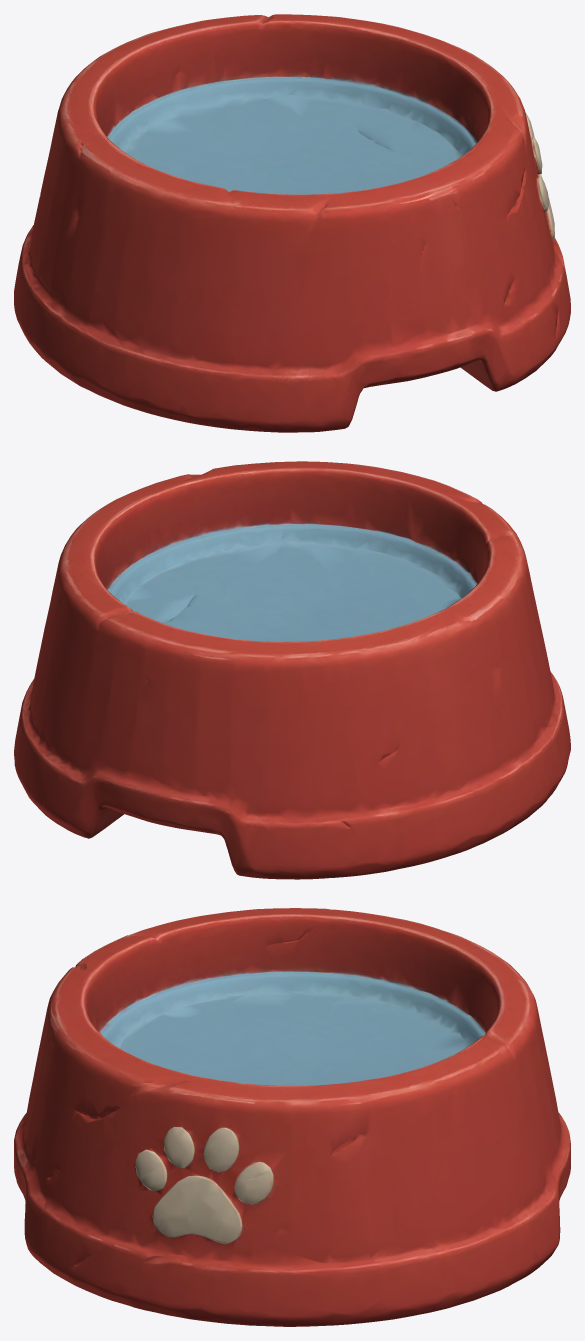
Rendered from bebedero.glb.
3 views of the same model, one above another, from view 1: azimuth 30°, elevation 25°; view 2: azimuth 150°, elevation 25°; view 3: azimuth 270°, elevation 25° (orthographic).
Parts seen in each view (by area): view 1: tripo_node_220ac8d7-5629-4ba1-8a5e-6941cdca39ef; view 2: tripo_node_220ac8d7-5629-4ba1-8a5e-6941cdca39ef; view 3: tripo_node_220ac8d7-5629-4ba1-8a5e-6941cdca39ef.
Boxes of the visible parts, x1,y1,x2,y2 form: tripo_node_220ac8d7-5629-4ba1-8a5e-6941cdca39ef: [14, 14, 570, 432]; tripo_node_220ac8d7-5629-4ba1-8a5e-6941cdca39ef: [14, 461, 570, 879]; tripo_node_220ac8d7-5629-4ba1-8a5e-6941cdca39ef: [14, 908, 570, 1326].
Size of the model in its own units: 1 by 0.4189 by 0.9969.
1 material, 1 textured.
